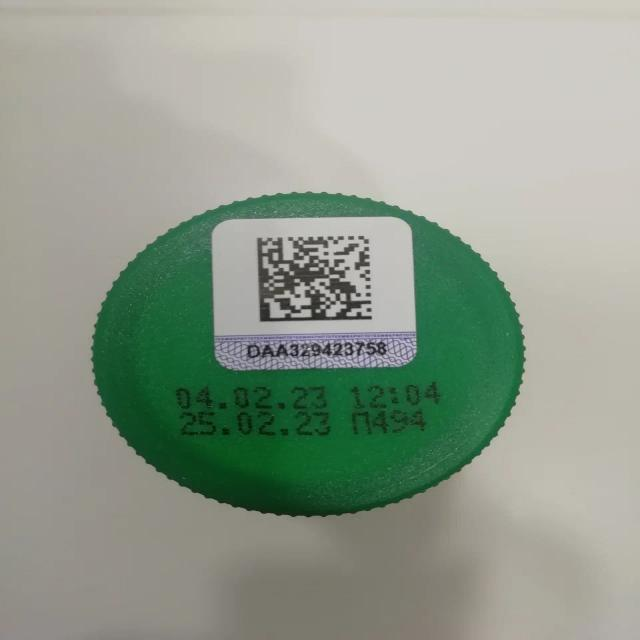datamatrix: (254, 234, 377, 326)
